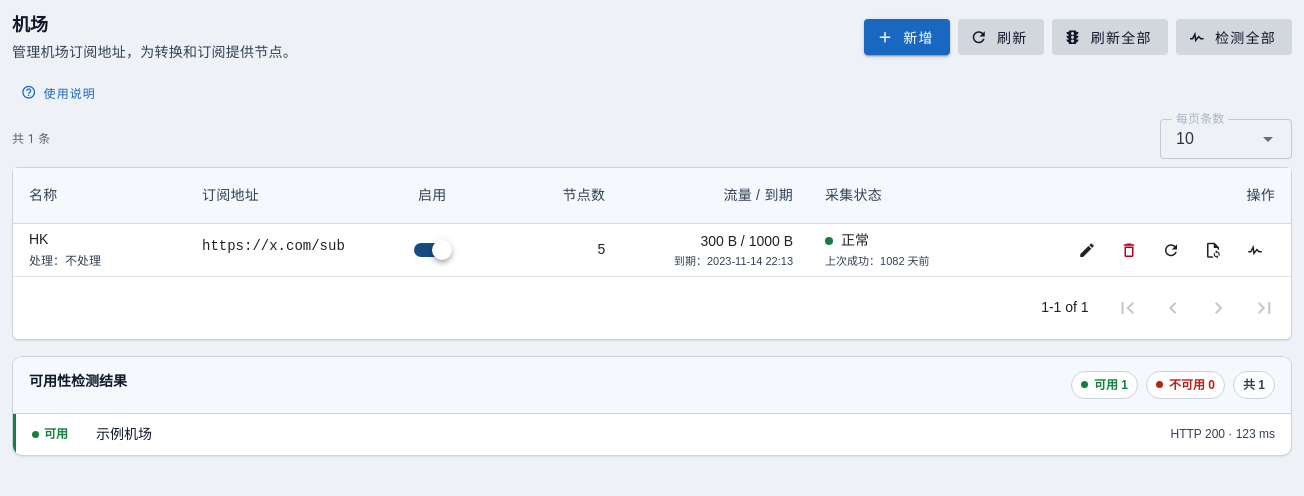
Scenario: AirportsPage › D-24 单机场测活同样显示汇总
Step 1. Click the button with test id "check-one" → click(1255, 250), box [1235,230,1275,270]
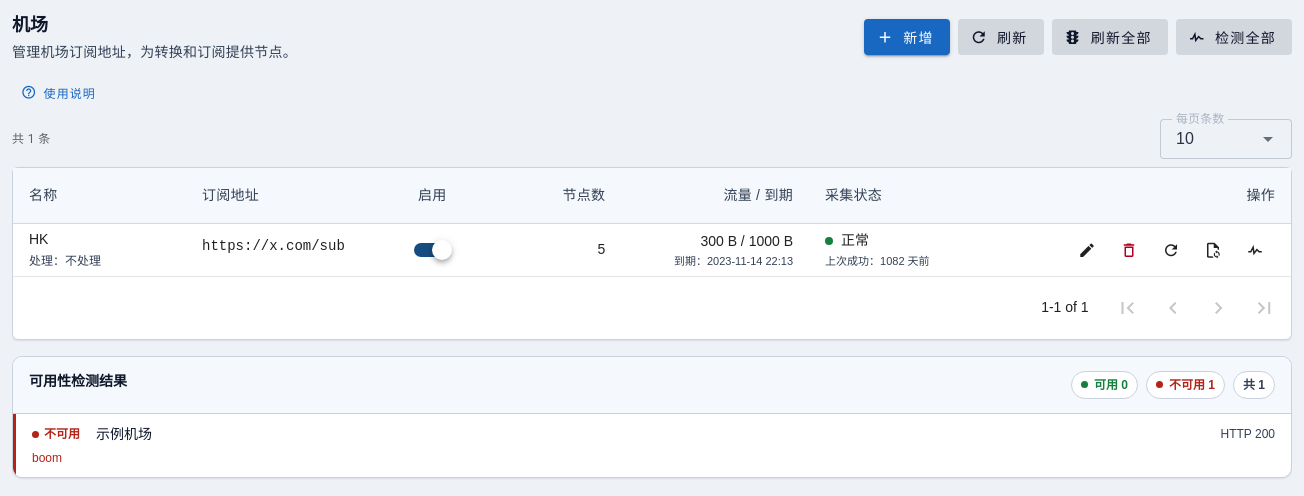
Result: the element with test id "check-summary" shows "不可用 1" at [1169,378,1215,392]
